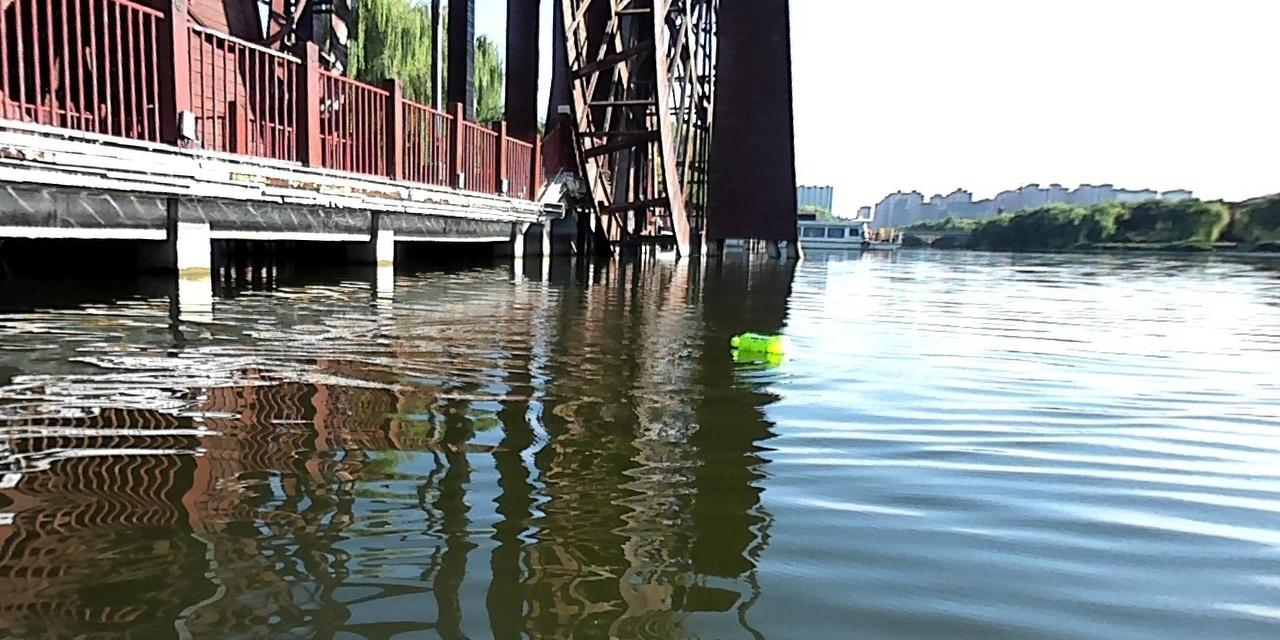bottle: (729, 331, 788, 354)
